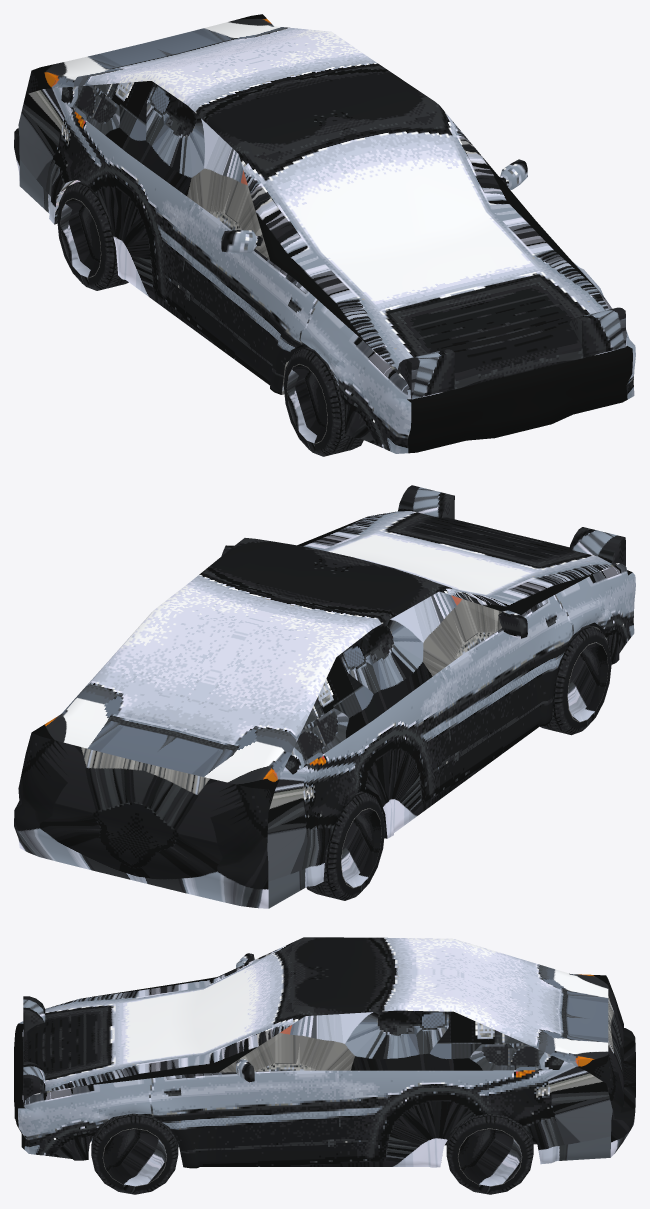
3 views of the same model, one above another, from view 1: azimuth 30°, elevation 25°; view 2: azimuth 150°, elevation 25°; view 3: azimuth 270°, elevation 25° (orthographic). The views are drawn at different scales.
Parts seen in each view (by area): view 1: Body, FrontWheels, RearWheels; view 2: Body, RearWheels, FrontWheels; view 3: Body, FrontWheels, RearWheels.
Part boxes in pixels (bbox=[...]): Body: bbox=[14, 14, 635, 453]; FrontWheels: bbox=[283, 347, 363, 456]; RearWheels: bbox=[57, 181, 128, 290]; Body: bbox=[14, 485, 635, 908]; RearWheels: bbox=[306, 791, 385, 900]; FrontWheels: bbox=[540, 625, 611, 735]; Body: bbox=[14, 937, 635, 1168]; FrontWheels: bbox=[91, 1113, 178, 1194]; RearWheels: bbox=[446, 1113, 533, 1194].
Bounding box in the file's own units: 0.6935 × 0.4755 × 1.56.
Materials: 1 (1 with a texture image).
